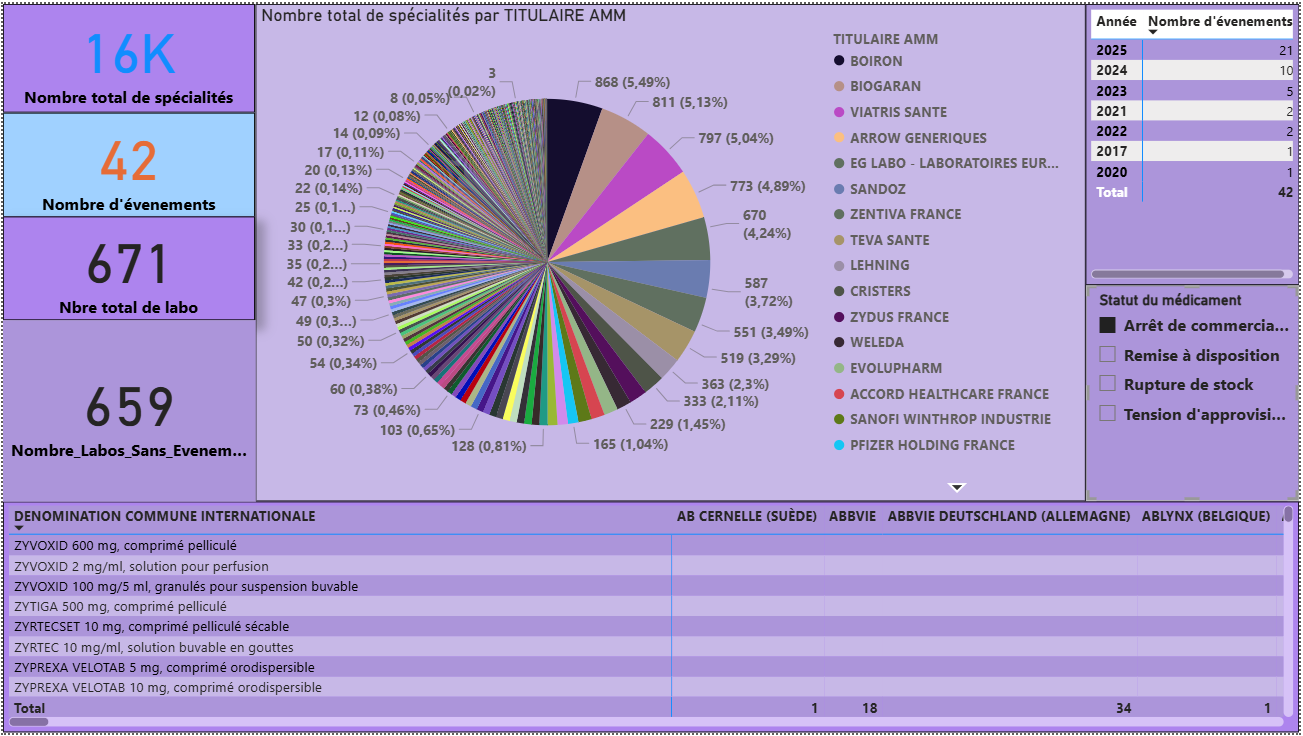

The page's visual inventory and layout, read from the dashboard file:
{"tool":"powerbi","page":{"name":"Les années les plus troubles","canvas":[1280,720],"ordinal":3},"visuals":[{"type":"slicer","fields":{"Values":["FACT_Dispo_Spec.Statut du médicament"]},"box":[0,311.6,249,181],"z":0},{"type":"pieChart","fields":{"Category":["DIM INFOS MEDICAMENTS.TITULAIRE AMM"],"Y":["DIM INFOS MEDICAMENTS.Nombre total de spécialités"]},"box":[249,0,820.4,491.2],"z":1000},{"type":"card","fields":{"Values":["DIM INFOS MEDICAMENTS.Nombre total de spécialités"]},"box":[0,0,249,107],"z":2000},{"type":"card","fields":{"Values":["FACT_Dispo_Spec.nombre d'évenements"]},"box":[0,107,249,103],"z":3000},{"type":"card","fields":{"Values":["Sum(FACT_Dispo_Spec.DUREE EVENEMENT)"]},"box":[0,209.5,249,102],"z":4000},{"type":"pivotTable","fields":{"Rows":["DIM INFOS MEDICAMENTS.DCI"],"Columns":["DIM INFOS MEDICAMENTS.TITULAIRE AMM"],"Values":["DIM INFOS MEDICAMENTS.Nombre total de spécialités"]},"box":[0,491.4,1280.2,228.4],"z":5000},{"type":"pivotTable","fields":{"Values":["FACT_Dispo_Spec.Nombre d'évenements"],"Rows":["DIM_Date.Année"]},"box":[1069.1,0,211.1,201.2],"z":6000},{"type":"card","fields":{"Values":["DIM_Date.Max durée"]},"box":[1069.1,201.2,211.1,121],"z":6001},{"type":"card","fields":{"Values":["DIM_Date.Min durée"]},"box":[1069.1,338.3,211.1,153.1],"z":6002}]}

Visuals, with their boxes in screenshot pixels (x1, y1, x2, y2), scaled from the page's 1280x720 canvas onto the 1303x736 screenshot:
slicer - FACT_Dispo_Spec.Statut du médicament: Rect(0, 319, 253, 504)
pieChart - DIM INFOS MEDICAMENTS.TITULAIRE AMM x DIM INFOS MEDICAMENTS.Nombre total de spécialités: Rect(253, 0, 1089, 502)
card - DIM INFOS MEDICAMENTS.Nombre total de spécialités: Rect(0, 0, 253, 109)
card - FACT_Dispo_Spec.nombre d'évenements: Rect(0, 109, 253, 215)
card - Sum(FACT_Dispo_Spec.DUREE EVENEMENT): Rect(0, 214, 253, 318)
pivotTable - DIM INFOS MEDICAMENTS.DCI x DIM INFOS MEDICAMENTS.TITULAIRE AMM: Rect(0, 502, 1302, 735)
pivotTable - FACT_Dispo_Spec.Nombre d'évenements x DIM_Date.Année: Rect(1088, 0, 1302, 206)
card - DIM_Date.Max durée: Rect(1088, 206, 1302, 329)
card - DIM_Date.Min durée: Rect(1088, 346, 1302, 502)
